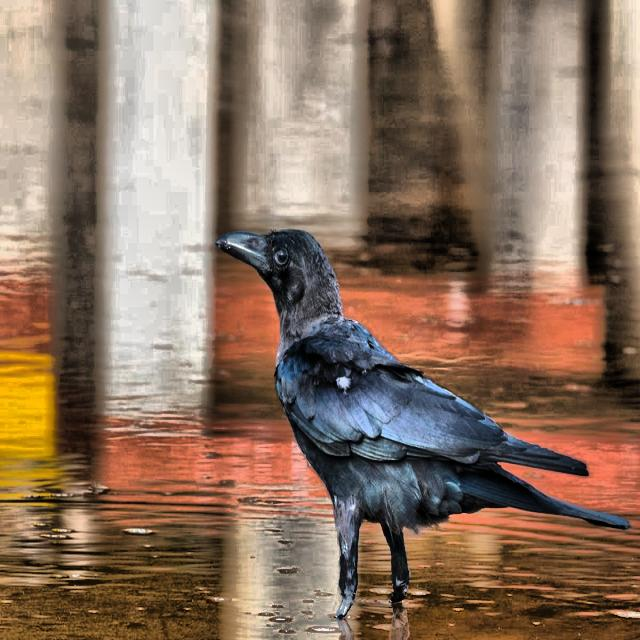crow: (213, 213, 640, 636)
